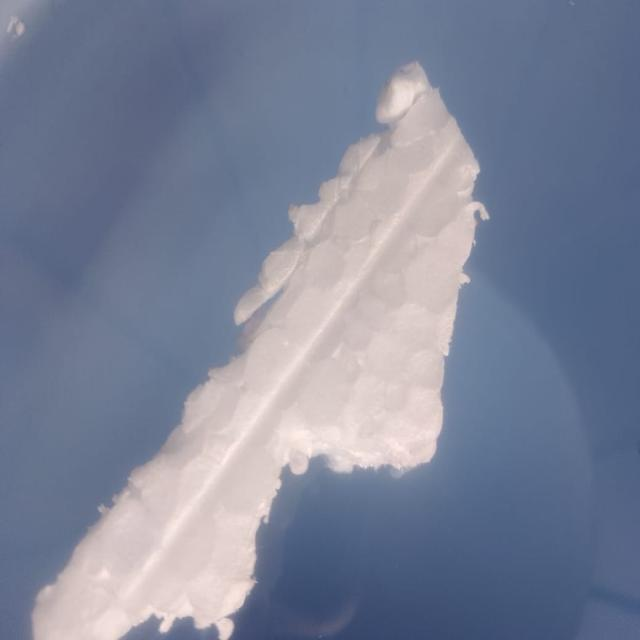thermocoal: (46, 62, 496, 637)
